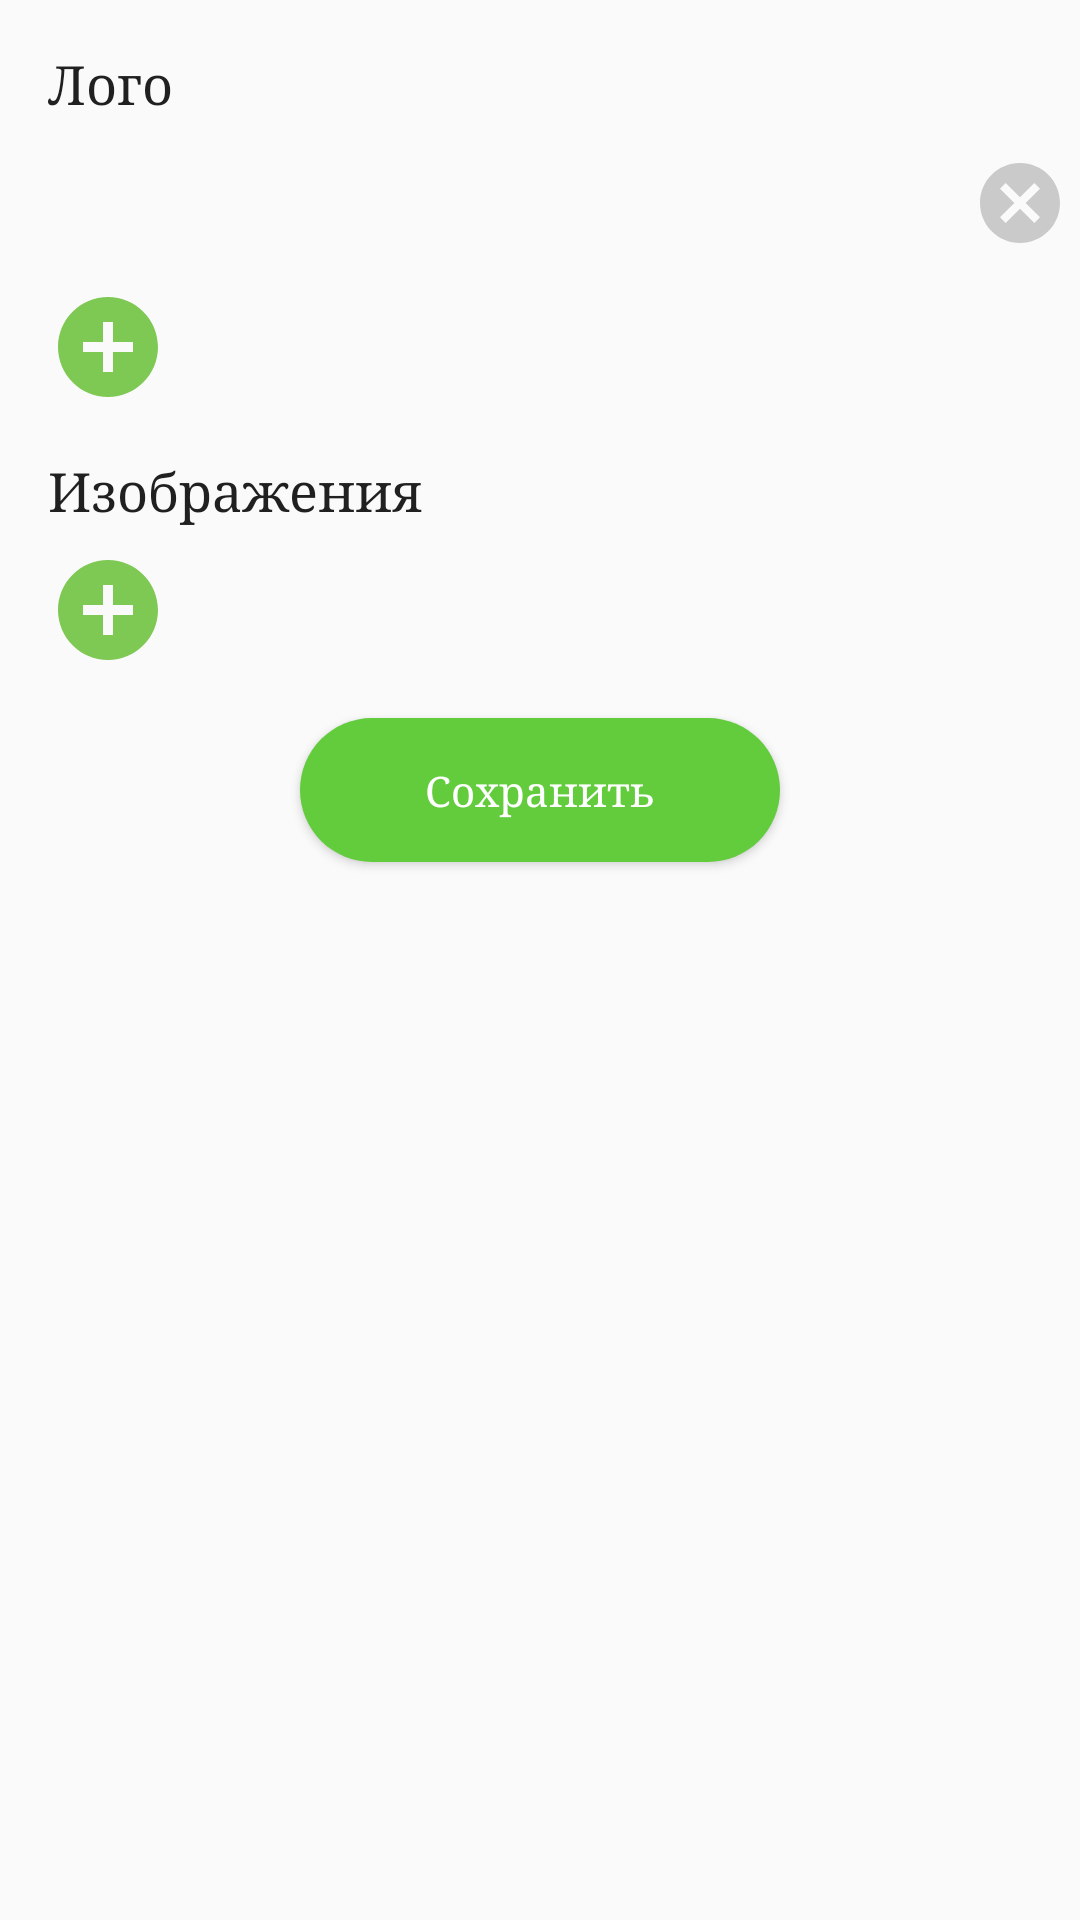

Named icons in this screenshot (1080×1920) and their bounding boxes, (x1, y1, x2, y2):
add circle: (58, 297, 158, 397), (58, 560, 158, 660)
cancel: (980, 163, 1060, 243)
